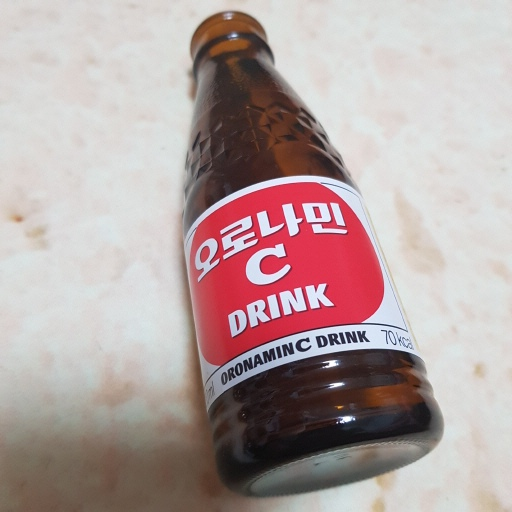Glass_3: (175, 10, 444, 494)
